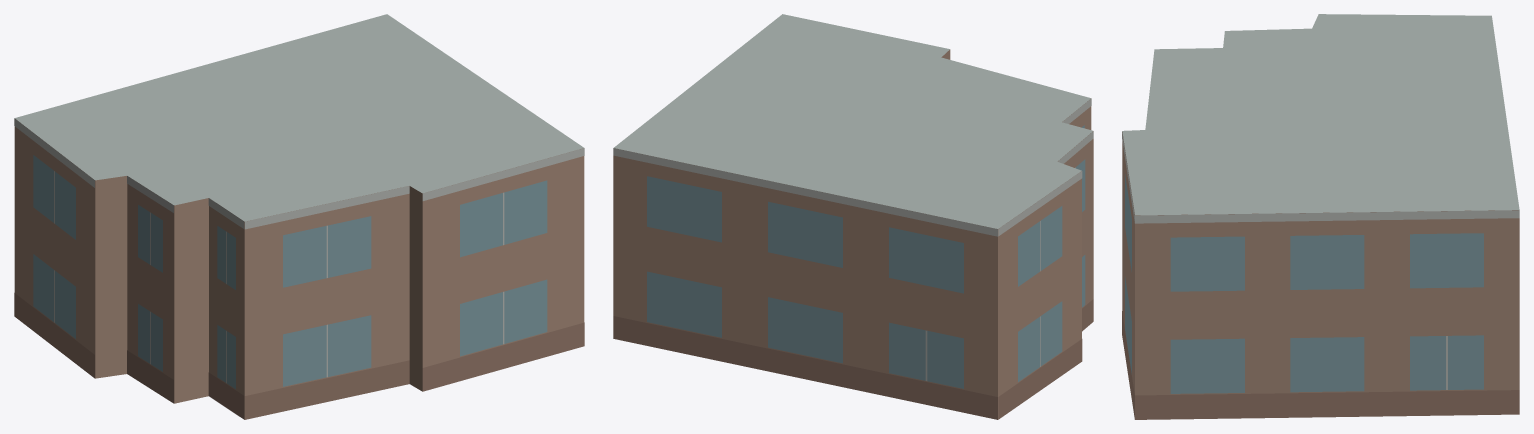
Rendered from survey-upis-32669399.glb.
3 renders of one model, left to right at view 1: azimuth 30°, elevation 25°; view 2: azimuth 150°, elevation 25°; view 3: azimuth 270°, elevation 25°, orthographic. The views are drawn at different scales.
Parts seen in each view (by area): view 1: survey-upis-32669399.tmp; view 2: survey-upis-32669399.tmp; view 3: survey-upis-32669399.tmp.
Part boxes in pixels (x1,y1,x2,y2): survey-upis-32669399.tmp: [14, 14, 584, 419]; survey-upis-32669399.tmp: [613, 14, 1093, 419]; survey-upis-32669399.tmp: [1122, 14, 1519, 419].
Size of the model in its own units: 12.9 by 6.1 by 10.76.
